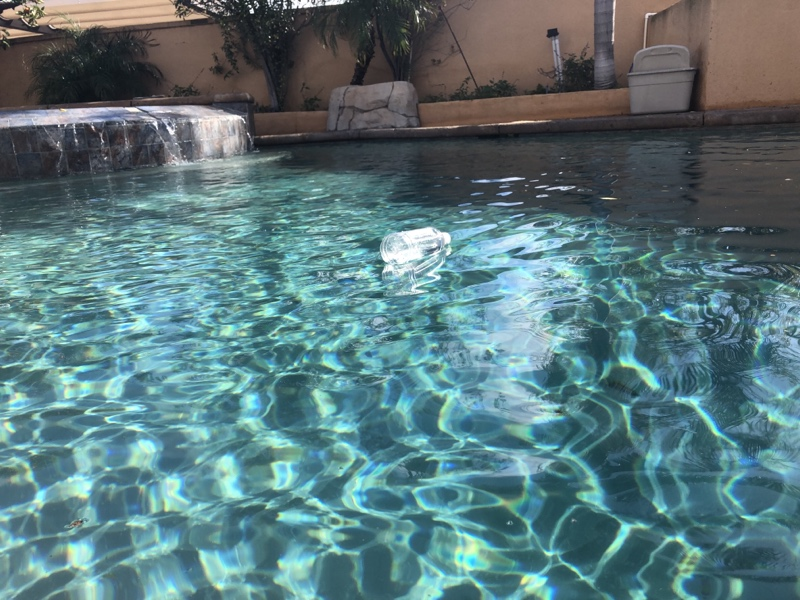Plastic Bottle: (378, 224, 456, 270)
